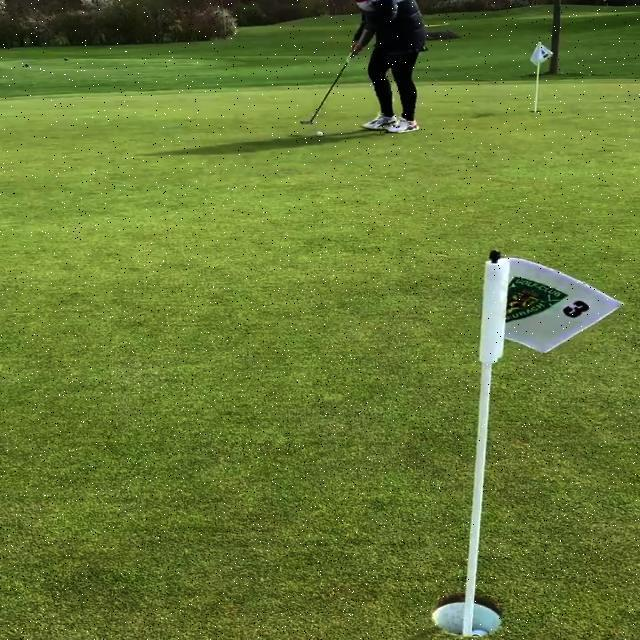ClubHead: (300, 122, 312, 125)
GolfBall: (316, 132, 324, 136)
